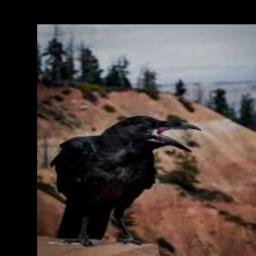Crow: (44, 115, 201, 238)
